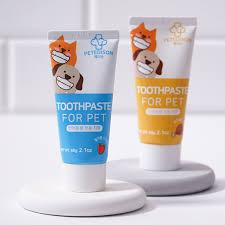toothpaste: (46, 28, 119, 189), (128, 14, 204, 168)
